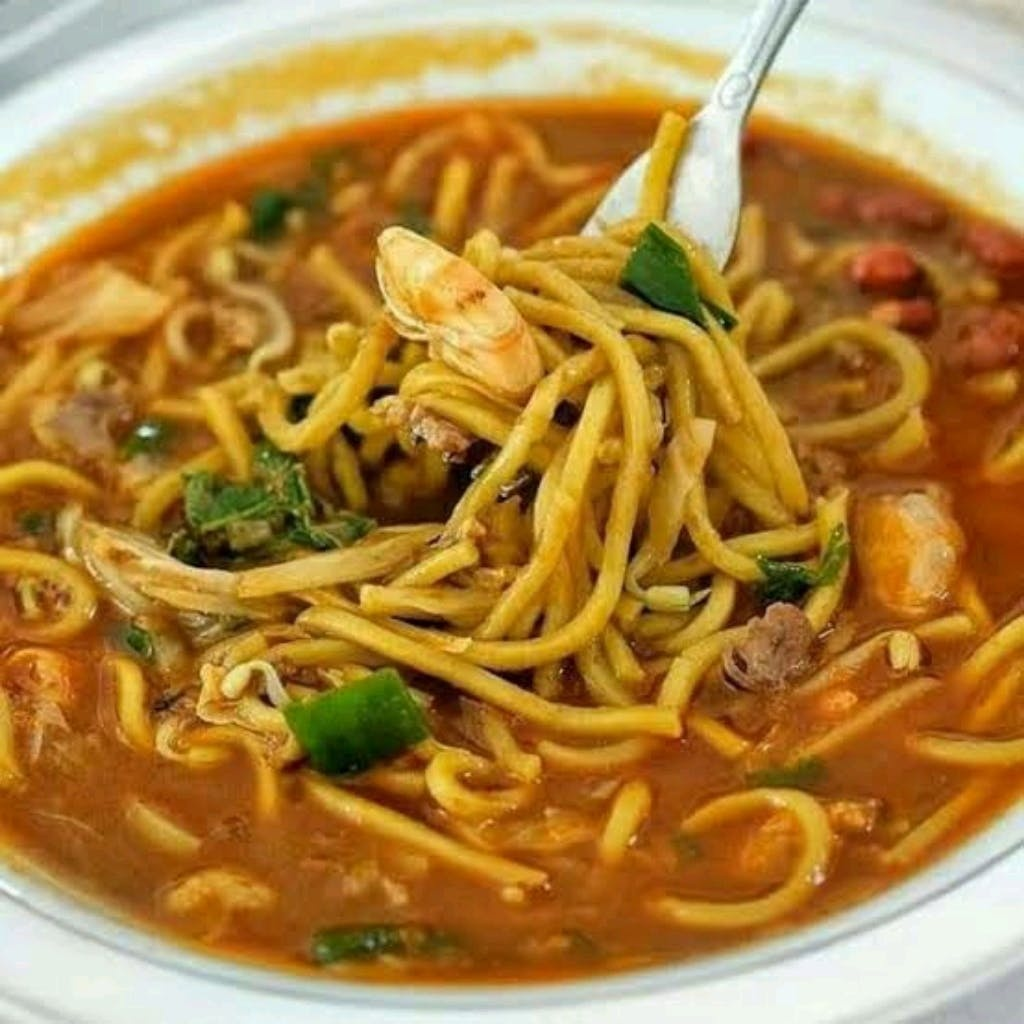mie_aceh: (10, 102, 1024, 989)
